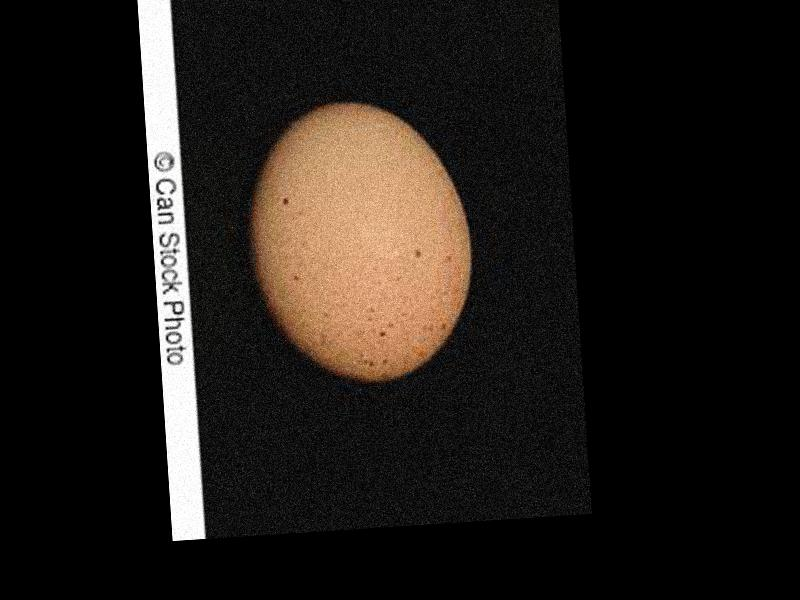Eggs: (239, 94, 478, 387)
